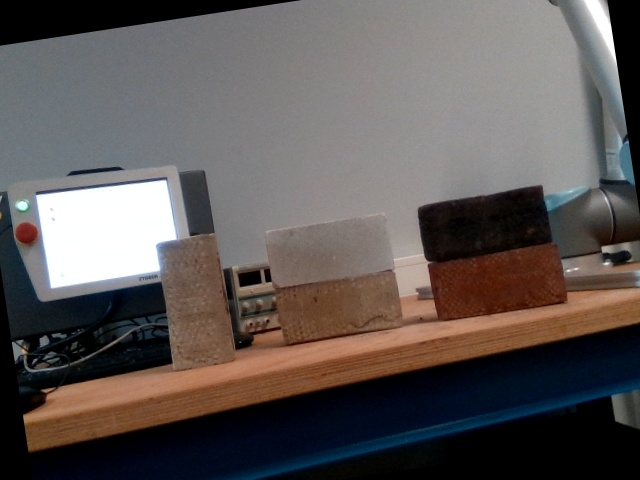brick: (154, 233, 233, 371), (430, 244, 565, 317), (418, 187, 549, 260), (266, 215, 390, 286), (277, 274, 401, 345)
